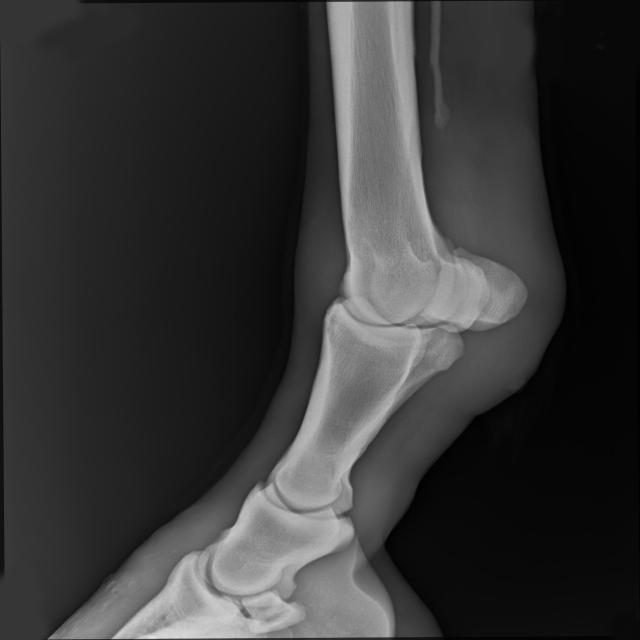joint-ht8A: (286, 177, 559, 411)
